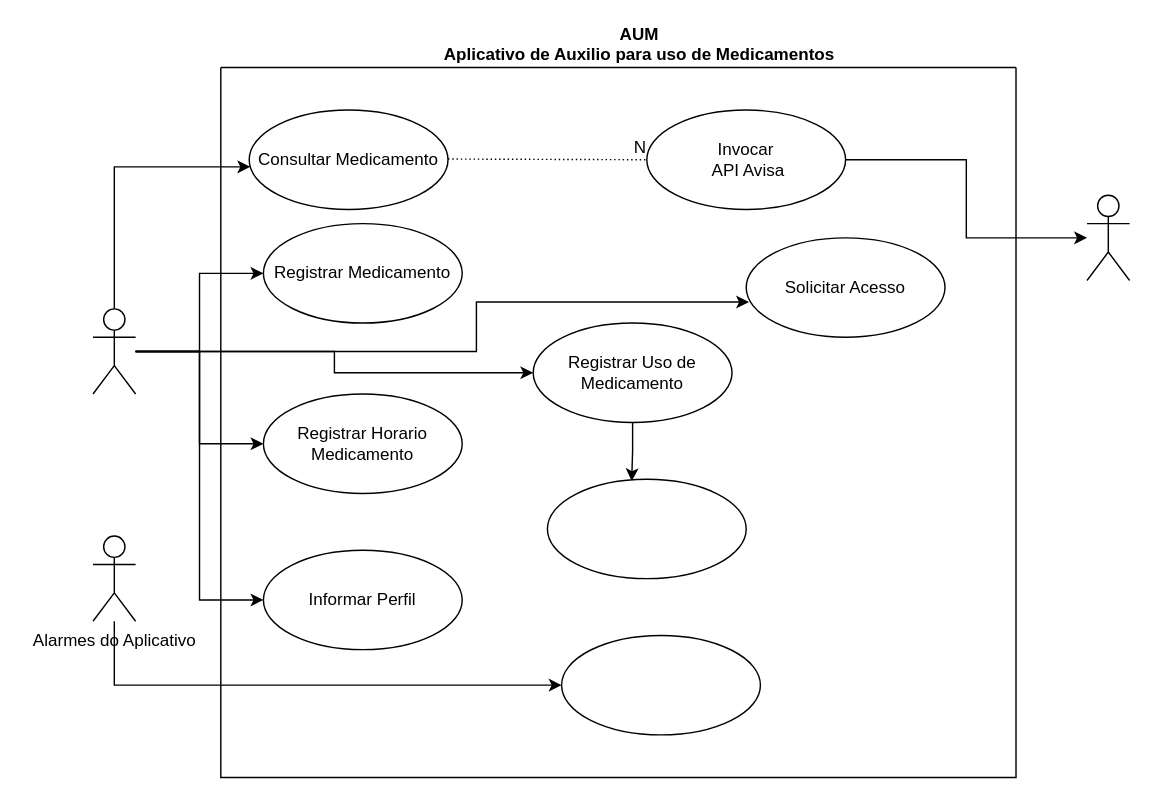
This 1164x802 diagram has some shape labels left out. The shapes that lost their labels are listed below. From the top down, each one's centre as x and y in pixels, then its label:
pixel 1108 237: ANVISA
pixel 114 350: Pessoa com PCD/Idoso
pixel 646 528: Atualizar Estoque
pixel 660 684: Alertar
